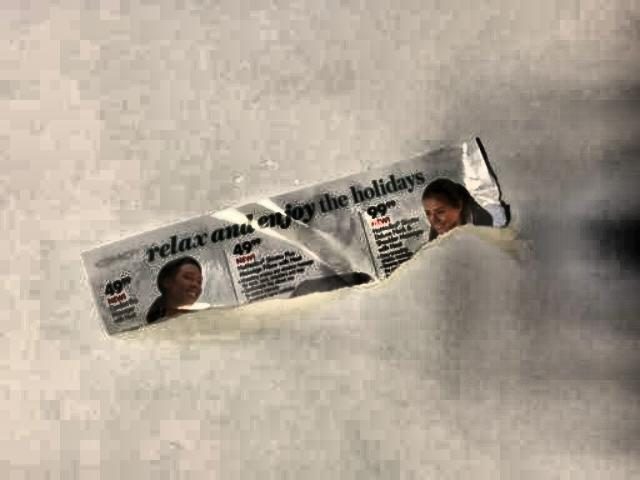Paper: (86, 137, 508, 338)
